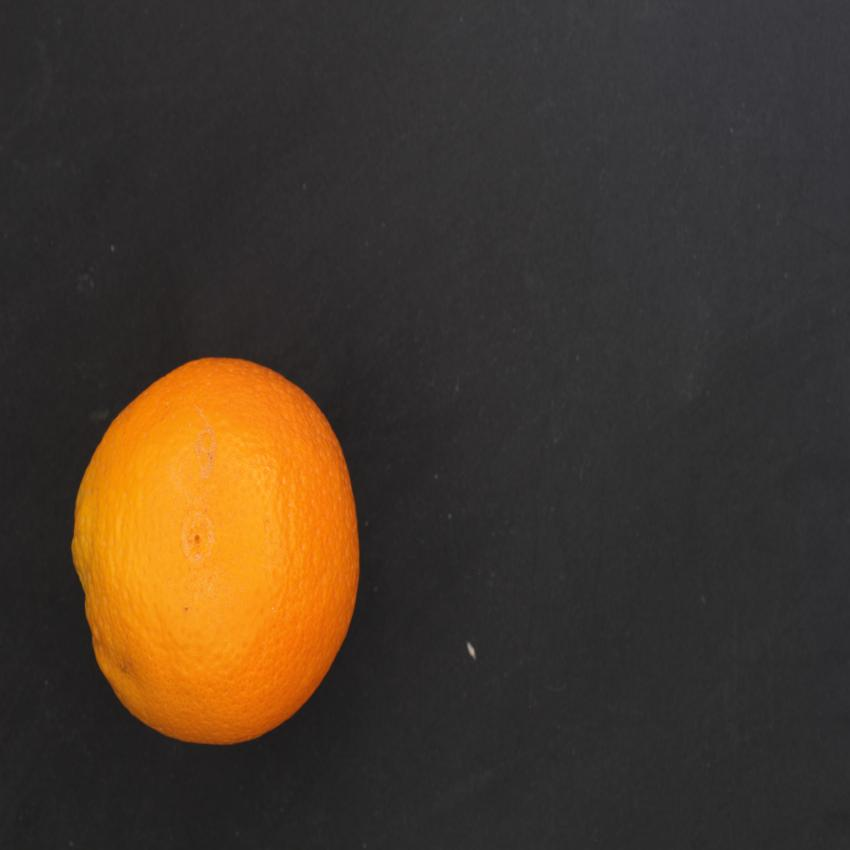Buen estado: (65, 349, 382, 755)
